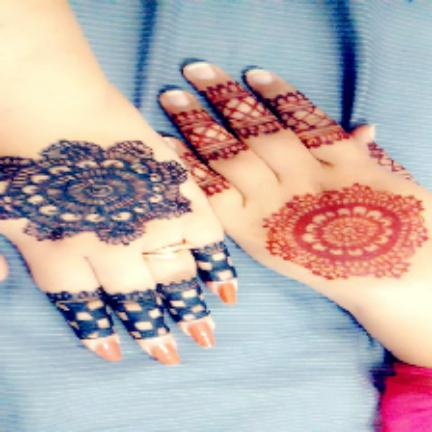Nail: (188, 321, 215, 348), (152, 343, 180, 364), (94, 341, 122, 361), (186, 62, 216, 80), (246, 69, 273, 85), (164, 90, 189, 107), (218, 283, 236, 305)
